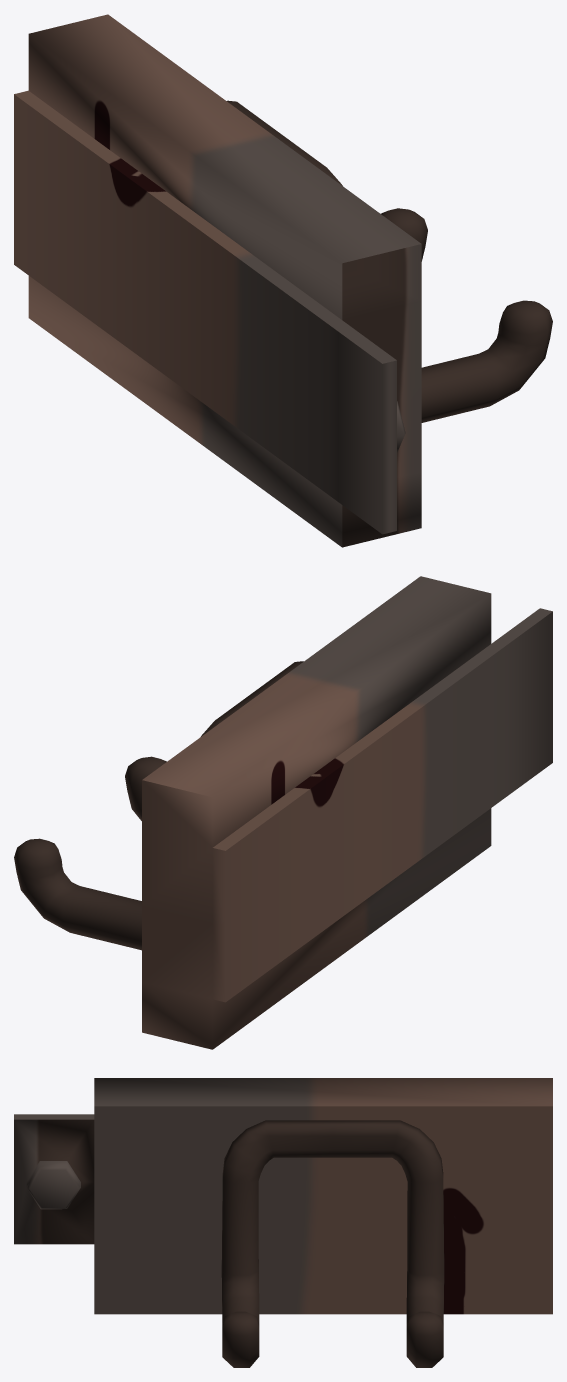
File: SM_Toolrack_End_Left.fbx
3 views of the same model, one above another, from view 1: azimuth 30°, elevation 25°; view 2: azimuth 150°, elevation 25°; view 3: azimuth 270°, elevation 25° (orthographic). The views are drawn at different scales.
Parts seen in each view (by area): view 1: Toolrack_End_Left; view 2: Toolrack_End_Left; view 3: Toolrack_End_Left.
Boxes of the visible parts, x1,y1,x2,y2 form: Toolrack_End_Left: (14, 14, 552, 547); Toolrack_End_Left: (14, 576, 552, 1049); Toolrack_End_Left: (14, 1078, 552, 1367).
Bounding box in the file's own units: 23.61 × 20 × 47.
